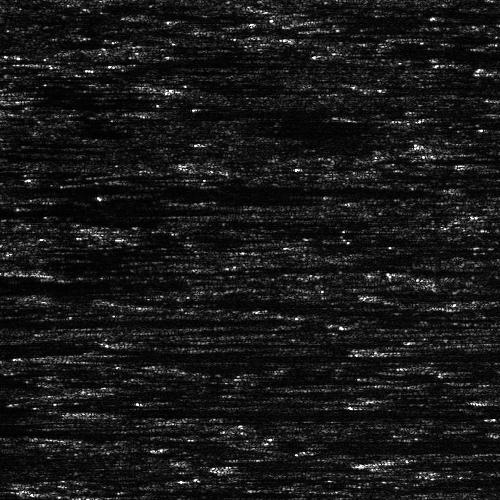rock: (347, 458, 452, 467), (136, 80, 219, 91), (54, 350, 117, 361), (352, 346, 415, 357), (0, 268, 89, 275), (49, 409, 132, 416), (125, 109, 198, 114), (303, 322, 366, 327), (0, 185, 24, 192), (449, 160, 480, 165)
shadow: (0, 185, 357, 192), (0, 203, 163, 216), (178, 80, 307, 91), (37, 268, 233, 275), (91, 409, 240, 416), (162, 109, 354, 114), (400, 458, 500, 467), (384, 346, 463, 357), (86, 350, 160, 361), (0, 317, 212, 320), (335, 322, 410, 327), (465, 160, 500, 165)
